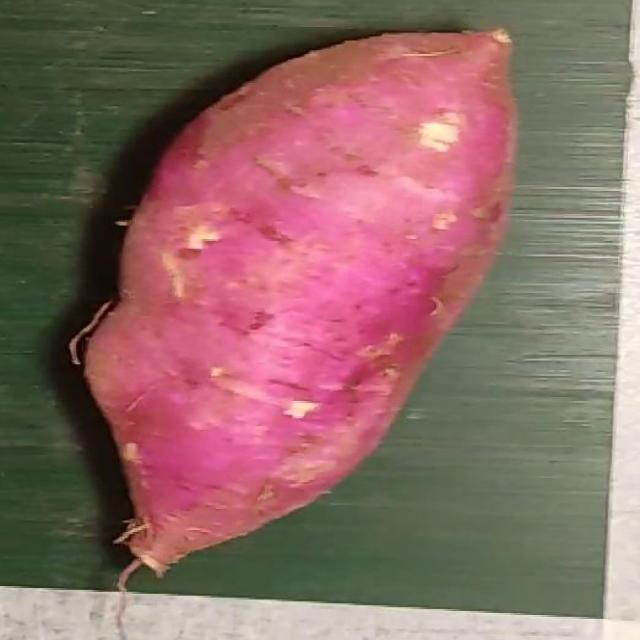Sweet Potato: (70, 30, 519, 577)
